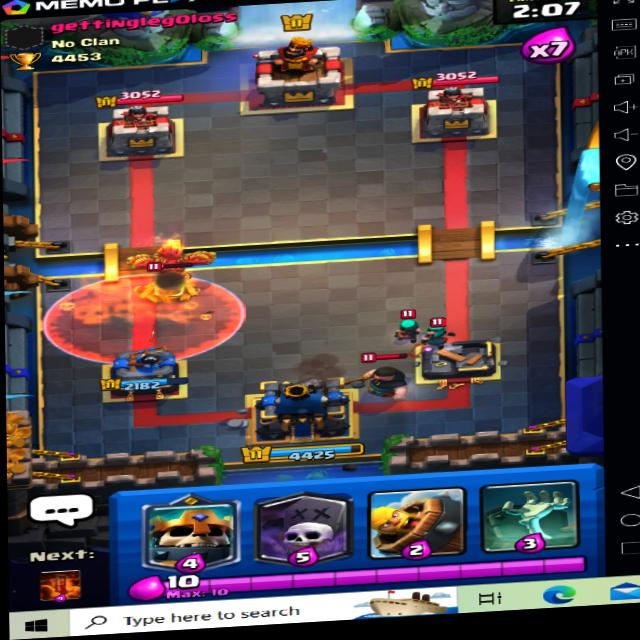cannon-cart: (150, 256, 199, 304)
rascal-boy: (355, 348, 415, 398)
rascal-girl: (391, 306, 434, 339), (422, 311, 460, 344)
